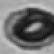correct: (2, 5, 54, 54)
